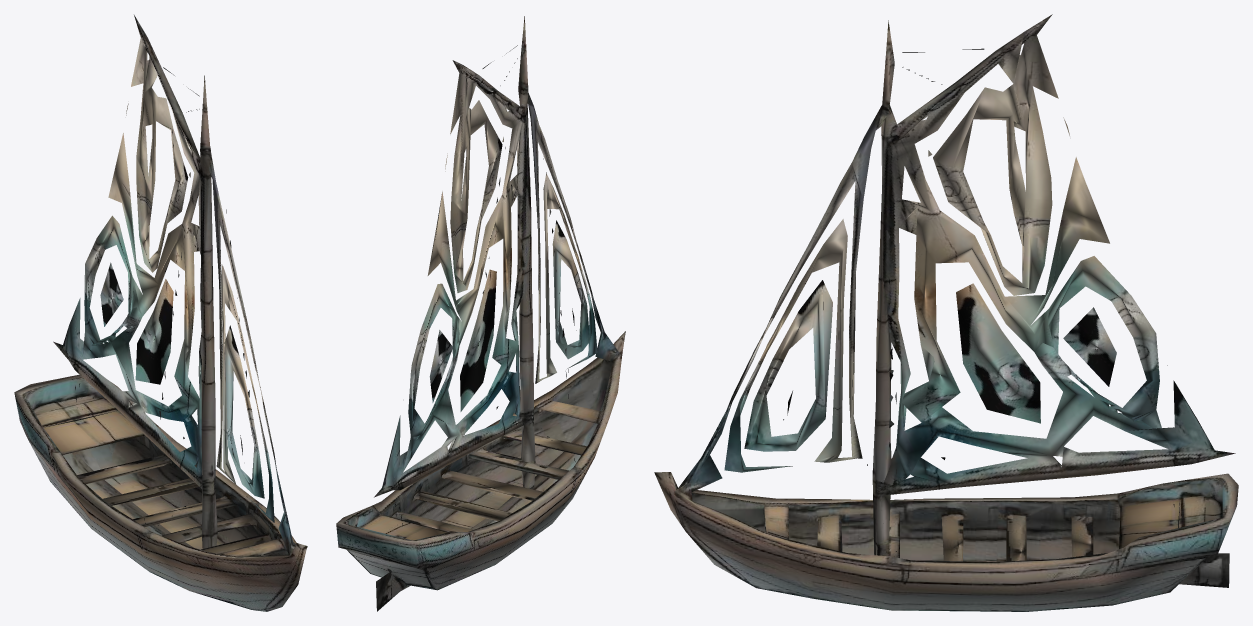
Rendered from demo_sailboat_shanhai.glb.
The picture shows the model from 3 angles, left to right: view 1: azimuth 30°, elevation 25°; view 2: azimuth 150°, elevation 25°; view 3: azimuth 270°, elevation 25°; orthographic projection. The views are drawn at different scales.
Visible parts, largest first — view 1: tripo_node_a0505deb-0da0-42de-84af-a219d59c9f82.001; view 2: tripo_node_a0505deb-0da0-42de-84af-a219d59c9f82.001; view 3: tripo_node_a0505deb-0da0-42de-84af-a219d59c9f82.001.
Boxes of the visible parts, box(x1,y1,x2,y2) form: tripo_node_a0505deb-0da0-42de-84af-a219d59c9f82.001: box(14, 15, 307, 611); tripo_node_a0505deb-0da0-42de-84af-a219d59c9f82.001: box(336, 16, 625, 611); tripo_node_a0505deb-0da0-42de-84af-a219d59c9f82.001: box(654, 14, 1238, 611).
Bounding box in the file's own units: 0.2552 × 0.996 × 0.9056.
Materials: 1 (1 with a texture image).
